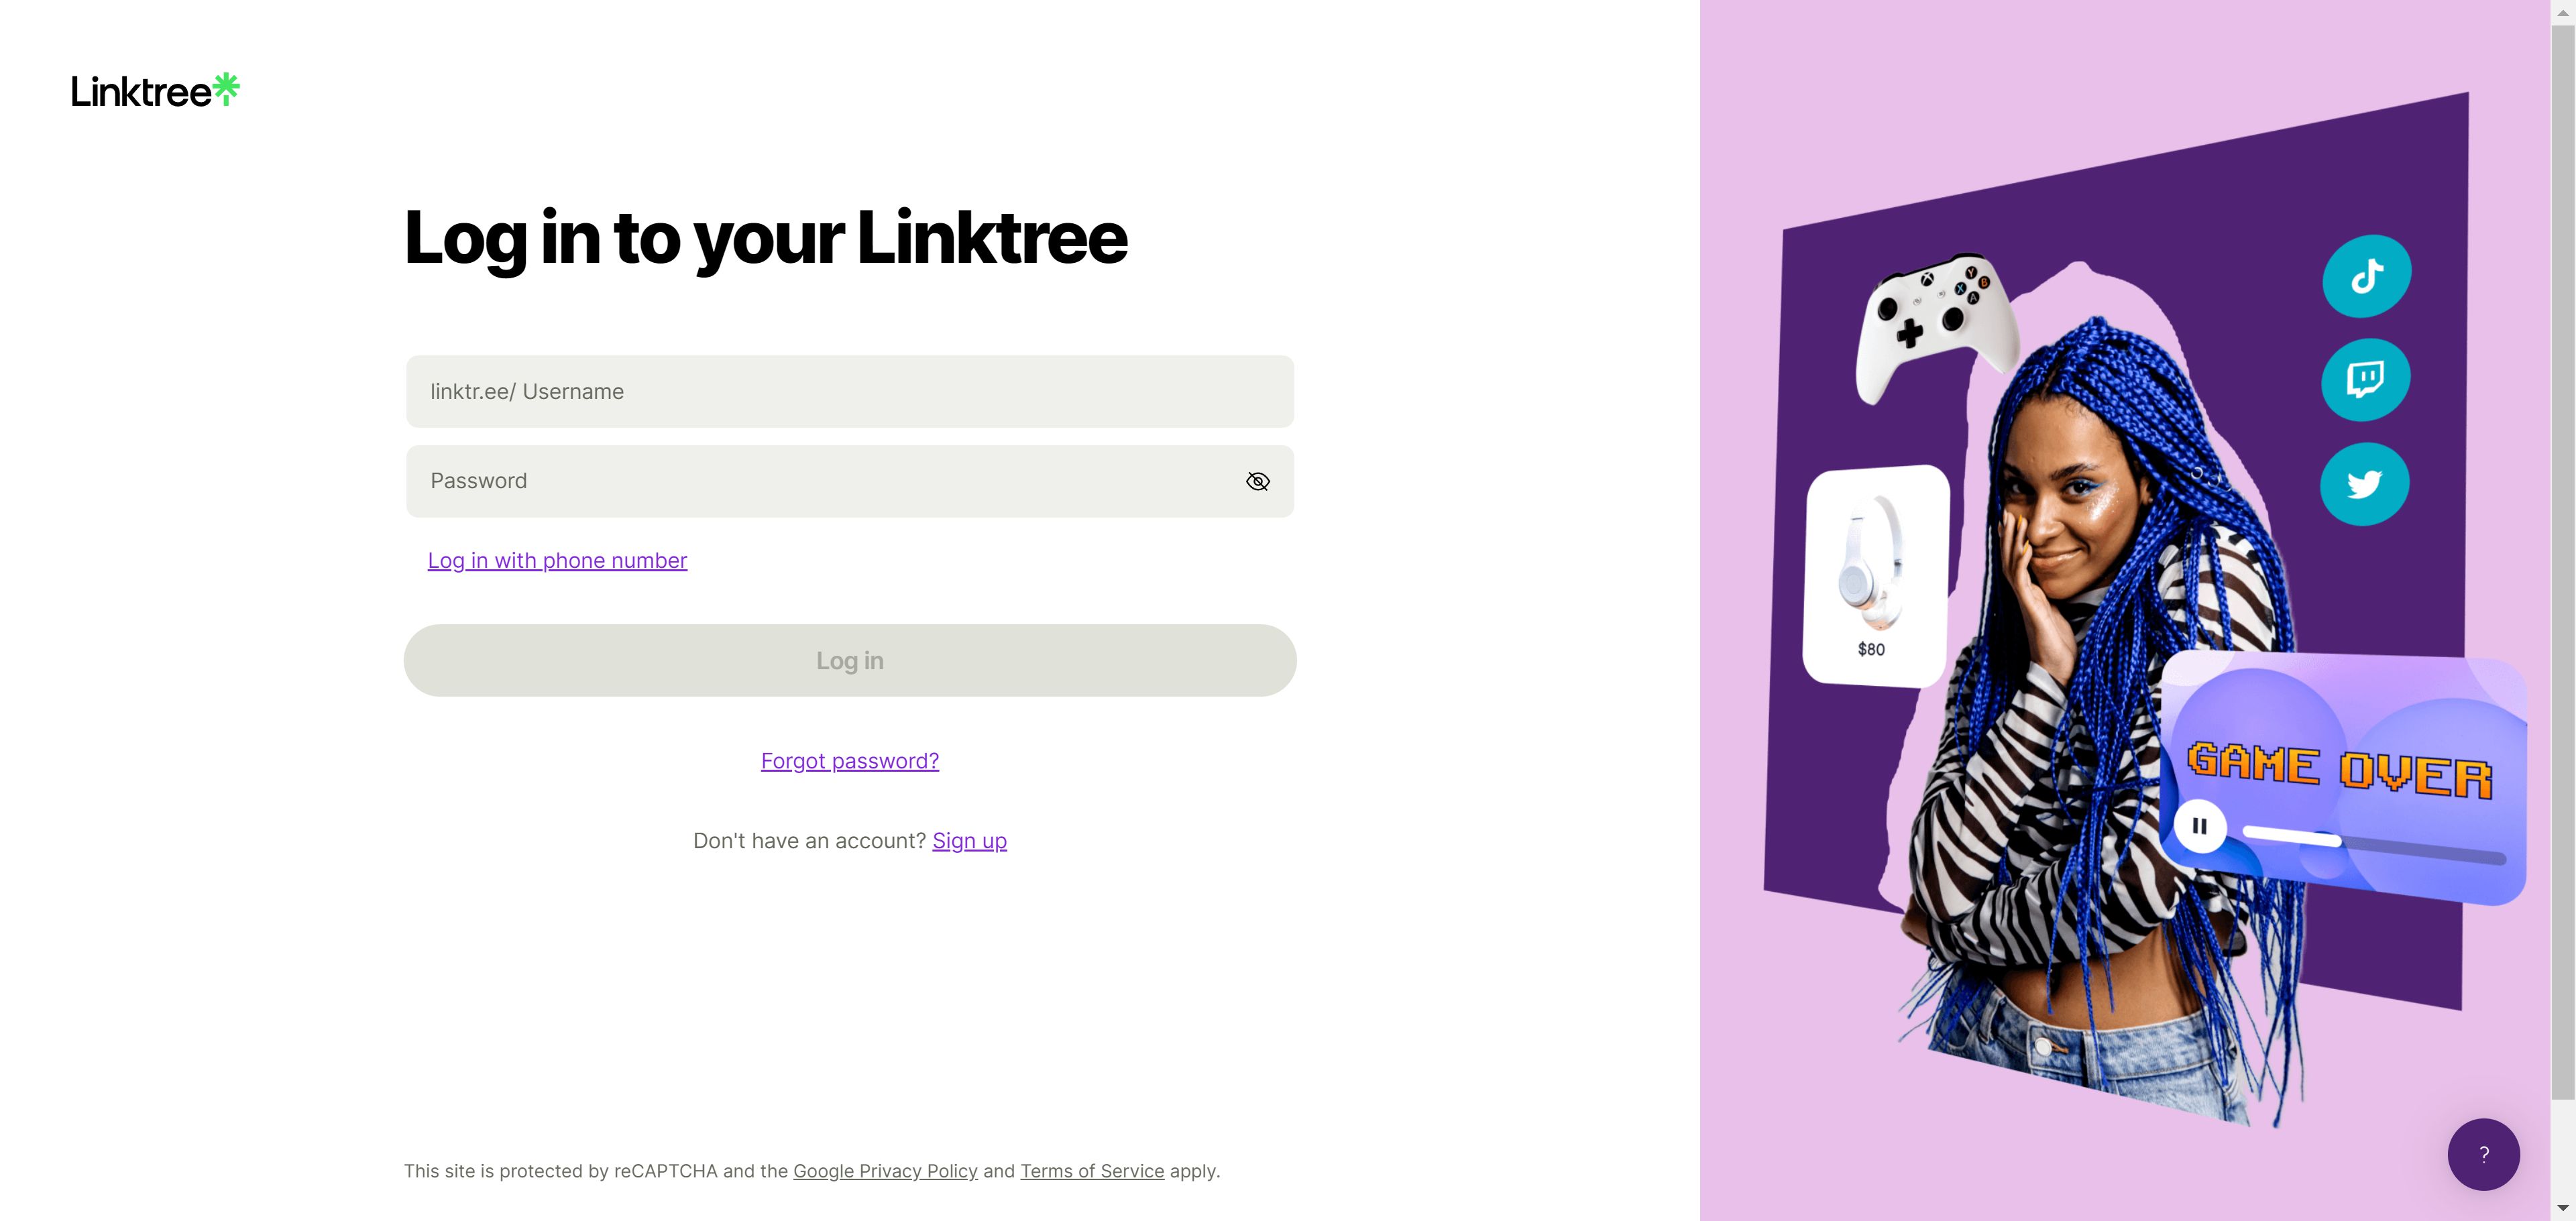login_button: (402, 624, 1296, 697)
login_form: (398, 343, 1303, 710)
